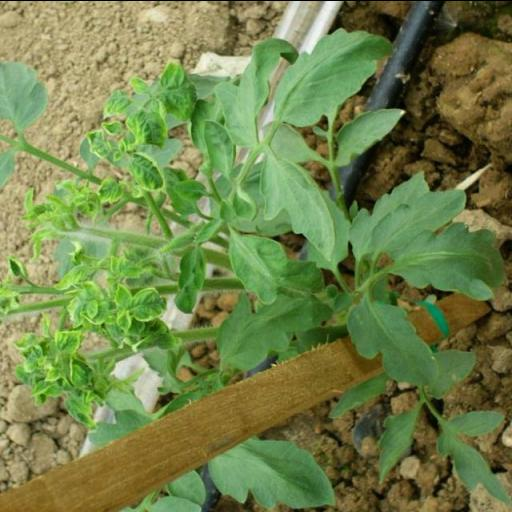Healthy: (242, 127, 332, 248), (346, 299, 442, 387), (330, 105, 404, 168)
Yellow Leaf Curl Virus: (10, 250, 165, 428), (152, 60, 198, 122), (113, 282, 167, 334), (124, 108, 169, 148), (124, 149, 166, 191), (64, 395, 98, 431), (51, 262, 91, 290), (100, 88, 132, 118), (83, 128, 112, 158), (96, 177, 126, 204), (54, 328, 82, 355), (128, 76, 149, 94), (102, 122, 122, 134)
